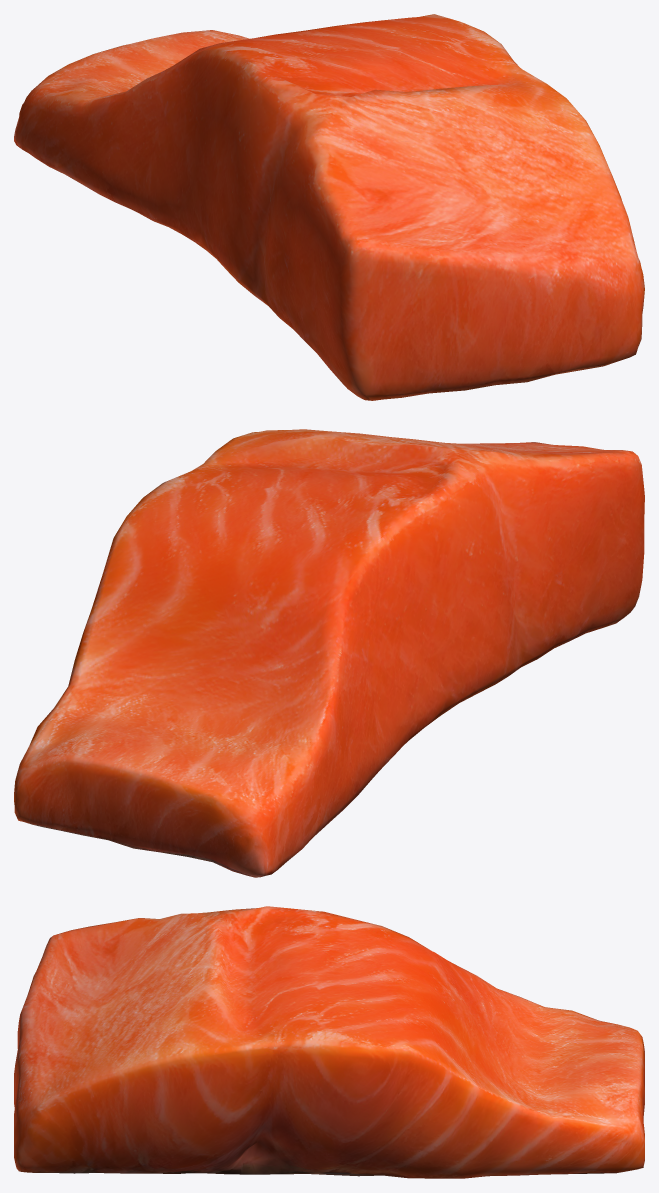
Rendered from food_salmon.glb.
The picture shows the model from 3 angles, top to bottom: view 1: azimuth 30°, elevation 25°; view 2: azimuth 150°, elevation 25°; view 3: azimuth 270°, elevation 25°; orthographic projection. The views are drawn at different scales.
Parts seen in each view (by area): view 1: tripo_node_28bc2d42-2053-4e0c-9bae-260d85480451; view 2: tripo_node_28bc2d42-2053-4e0c-9bae-260d85480451; view 3: tripo_node_28bc2d42-2053-4e0c-9bae-260d85480451.
Boxes of the visible parts, left/top/right/bottom form: tripo_node_28bc2d42-2053-4e0c-9bae-260d85480451: left=14, top=14, right=644, bottom=400; tripo_node_28bc2d42-2053-4e0c-9bae-260d85480451: left=14, top=429, right=644, bottom=877; tripo_node_28bc2d42-2053-4e0c-9bae-260d85480451: left=14, top=906, right=644, bottom=1178.
Bounding box in the file's own units: 0.2282 × 0.15 × 0.4645.
1 material, 1 textured.
